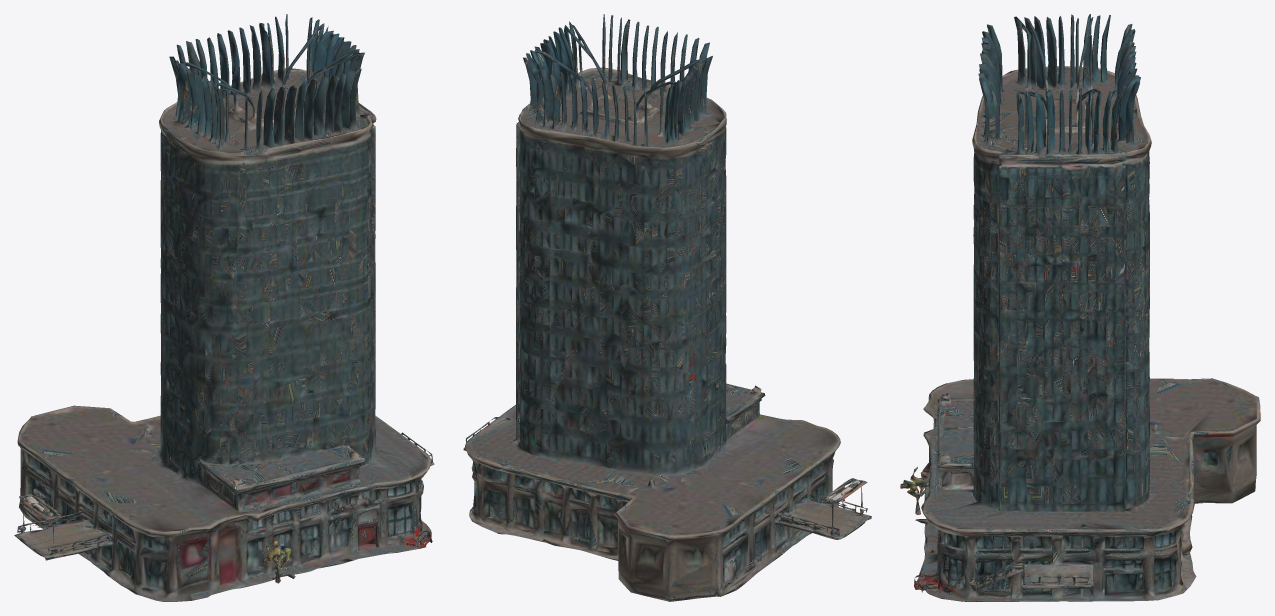
File: teleoperator_dispatchGlassTower.glb
3 views of the same model, side by side, from view 1: azimuth 30°, elevation 25°; view 2: azimuth 150°, elevation 25°; view 3: azimuth 270°, elevation 25° (orthographic). The views are drawn at different scales.
Bounding box in the file's own units: 1.67 × 1.9 × 1.27.
Materials: 1 (1 with a texture image).
